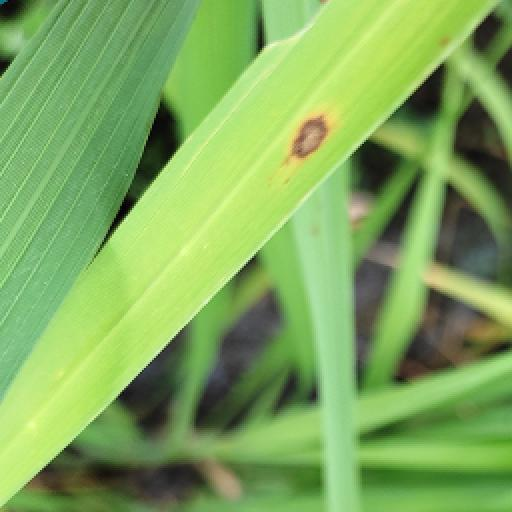Brown Spot: (284, 110, 336, 162)
